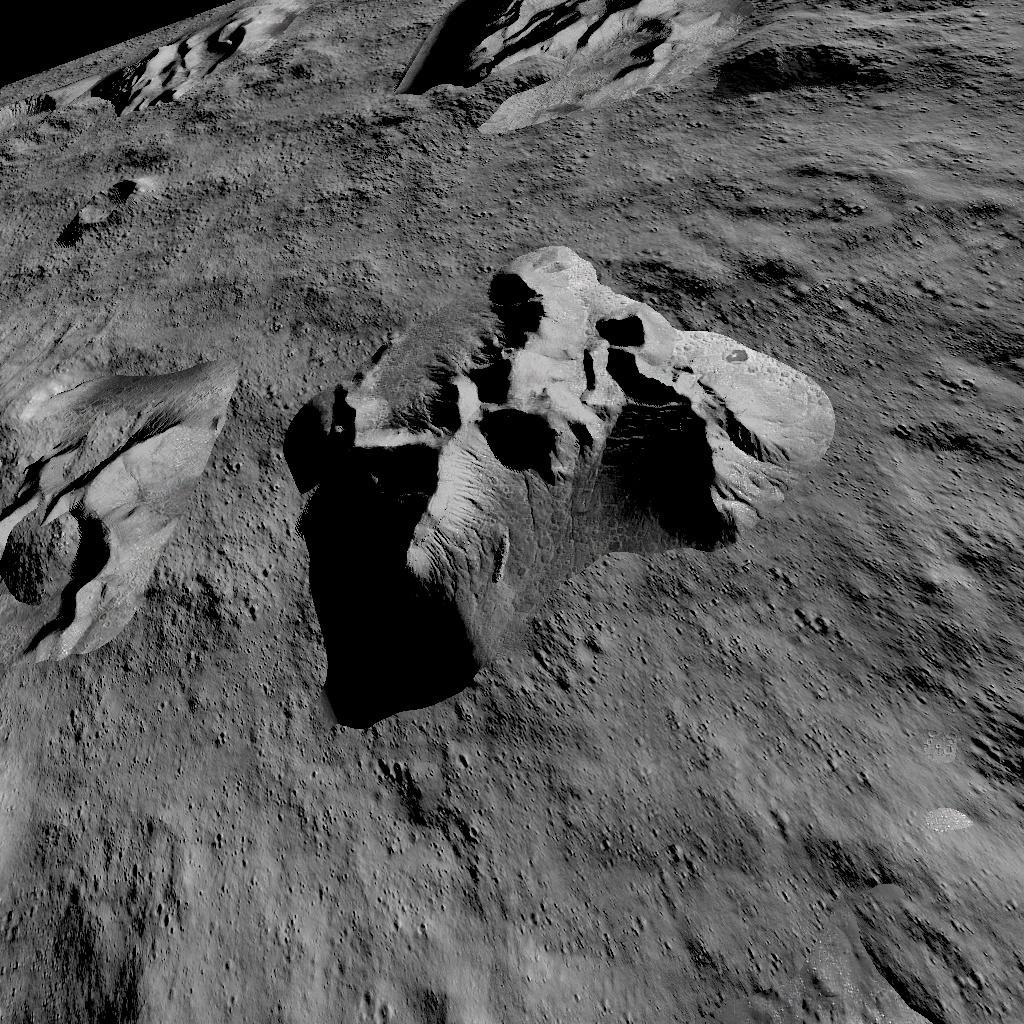Boulders: (277, 244, 838, 732), (412, 0, 908, 138), (95, 11, 286, 114)
Crater: (0, 365, 217, 661), (51, 166, 166, 248), (0, 88, 77, 173)
Plan surface: (9, 750, 1024, 1024), (869, 164, 1024, 704), (209, 130, 393, 230)
